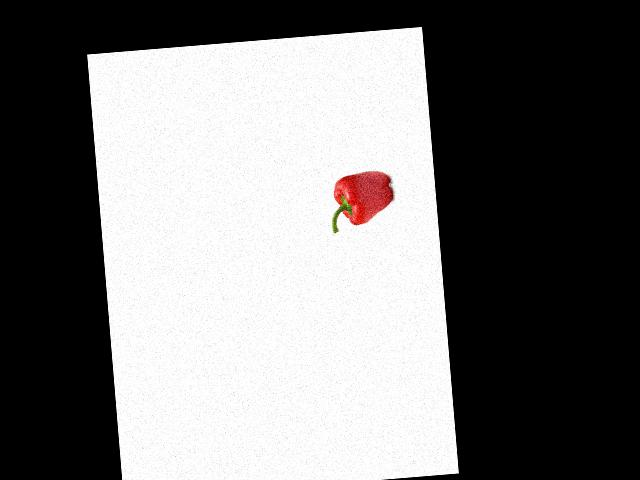bell_pepper: (323, 166, 400, 235)
